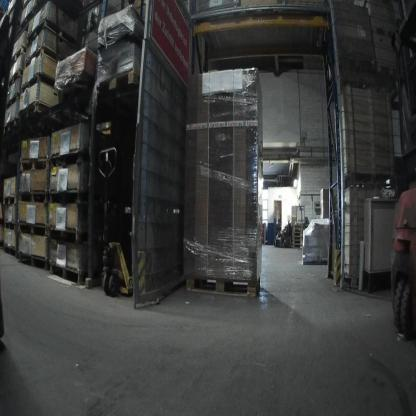pallets: (86, 58, 163, 104), (1, 216, 90, 244), (182, 272, 260, 301), (0, 189, 79, 211), (0, 154, 81, 168), (0, 106, 54, 116), (289, 220, 306, 249)
